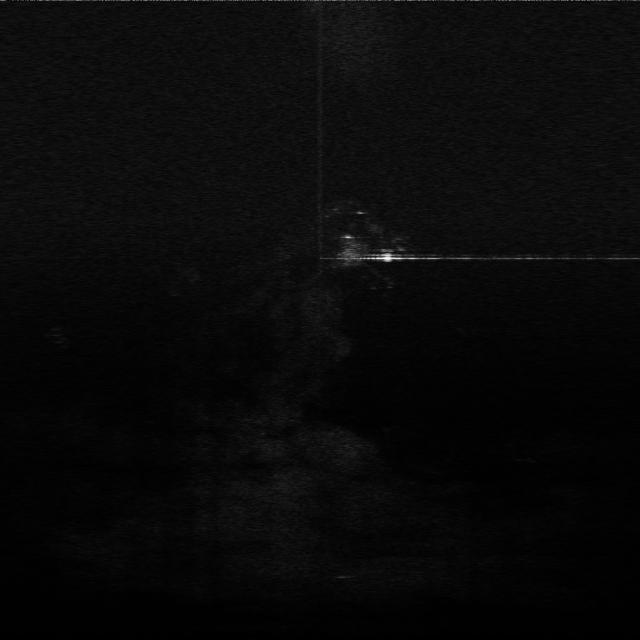rov: (376, 247, 400, 263)
